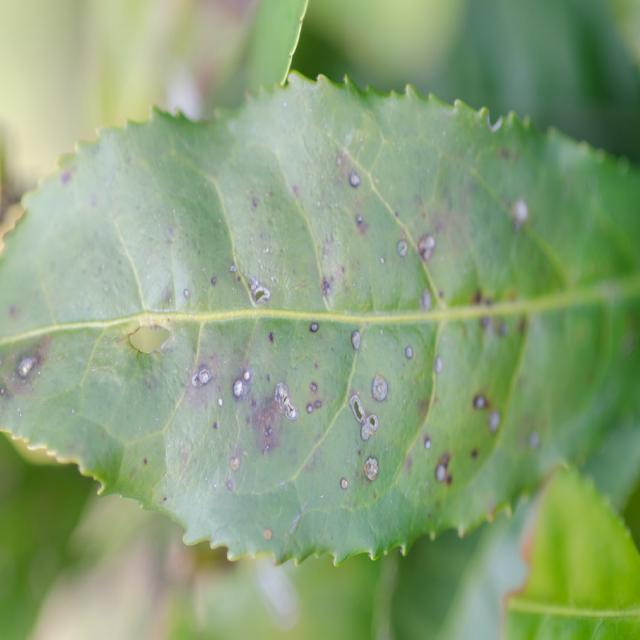Tea red scab: (352, 373, 396, 452), (493, 185, 543, 246), (178, 344, 219, 400), (268, 370, 302, 430), (398, 222, 440, 269), (339, 316, 368, 356), (346, 166, 369, 204), (236, 360, 255, 406), (303, 313, 321, 347)
